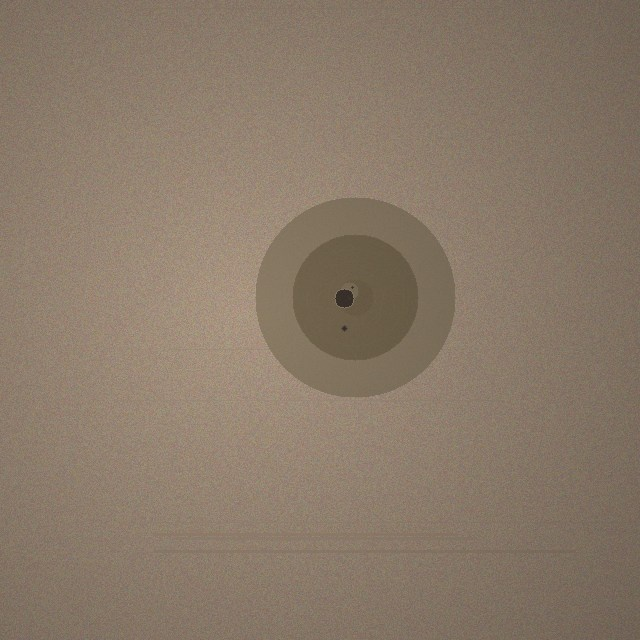shrinkage: (255, 197, 455, 397)
